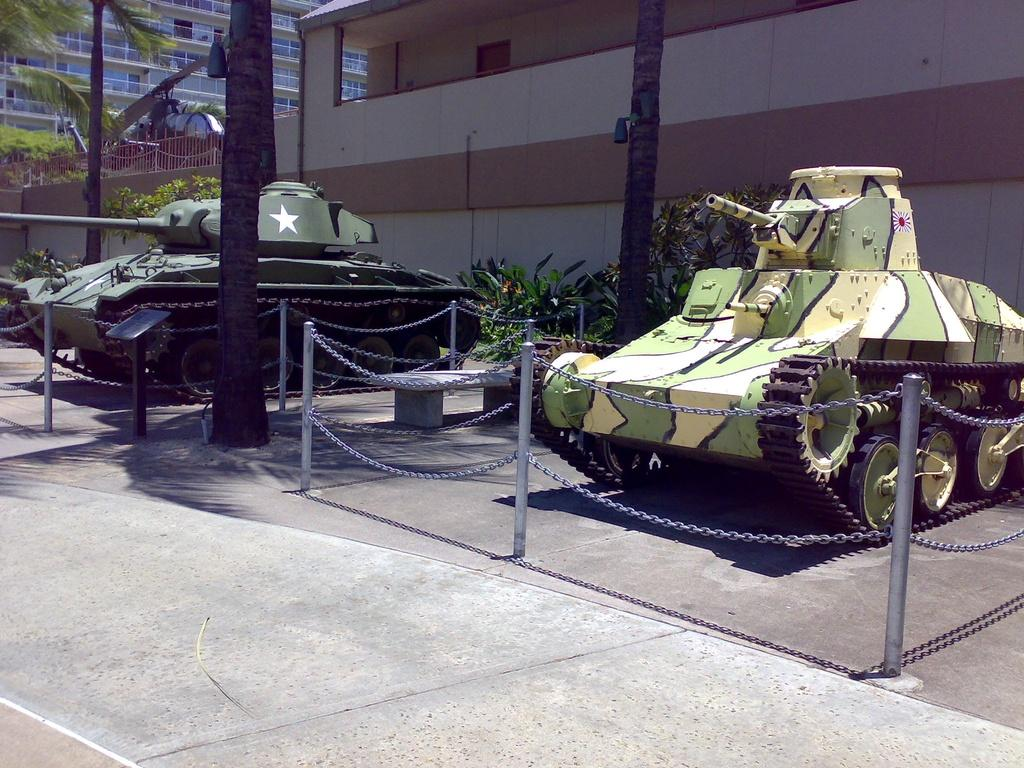Tank: (511, 159, 1023, 543), (0, 177, 488, 405)
